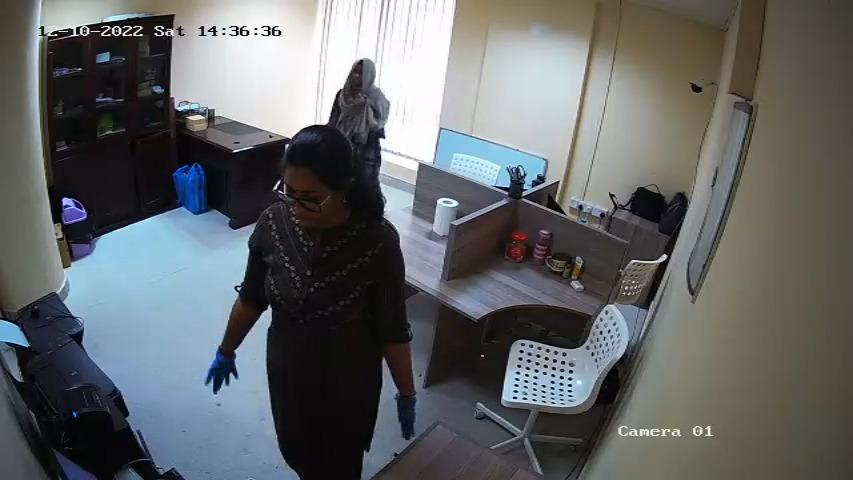gloves: (202, 341, 243, 403), (388, 384, 423, 444)
